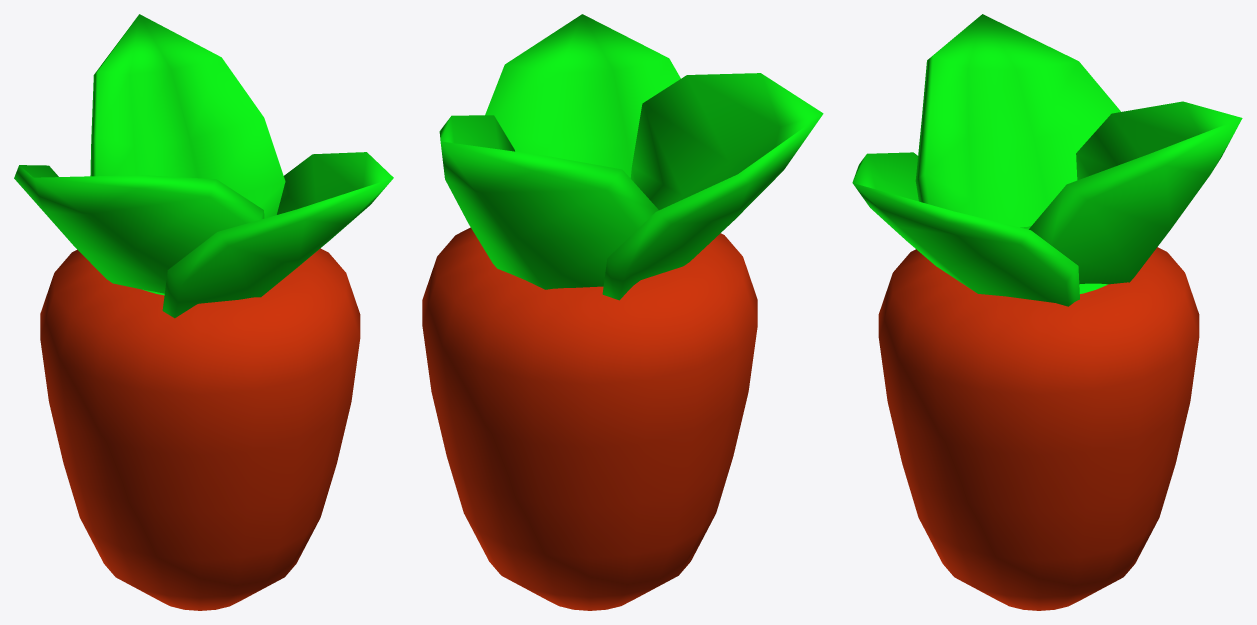
The model's file is item_carrot.FBX.
The picture shows the model from 3 angles, left to right: view 1: azimuth 30°, elevation 25°; view 2: azimuth 150°, elevation 25°; view 3: azimuth 270°, elevation 25°; orthographic projection. The views are drawn at different scales.
Visible parts, largest first — view 1: Cylinder001; view 2: Cylinder001; view 3: Cylinder001.
Part boxes in pixels (x1=…): Cylinder001: x1=14, y1=14, x2=393, y2=610; Cylinder001: x1=422, y1=14, x2=823, y2=610; Cylinder001: x1=852, y1=14, x2=1242, y2=610.
Size of the model in its own units: 47.73 by 67.03 by 48.04.
